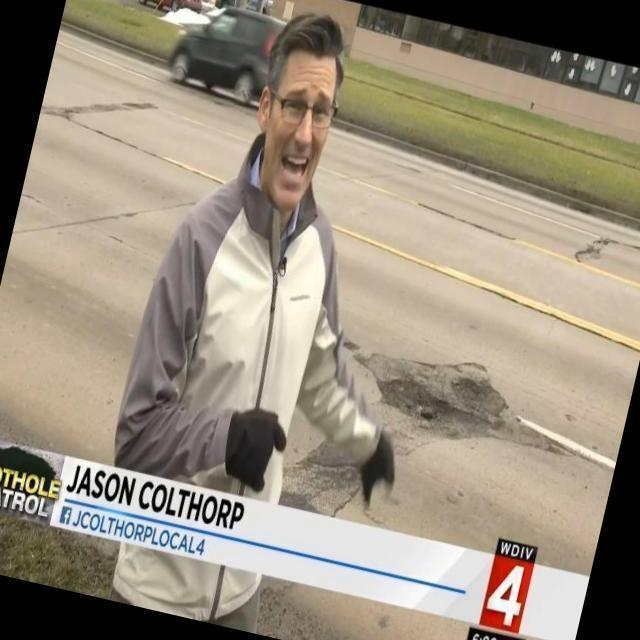pothole: (347, 342, 560, 454), (280, 442, 360, 514)
